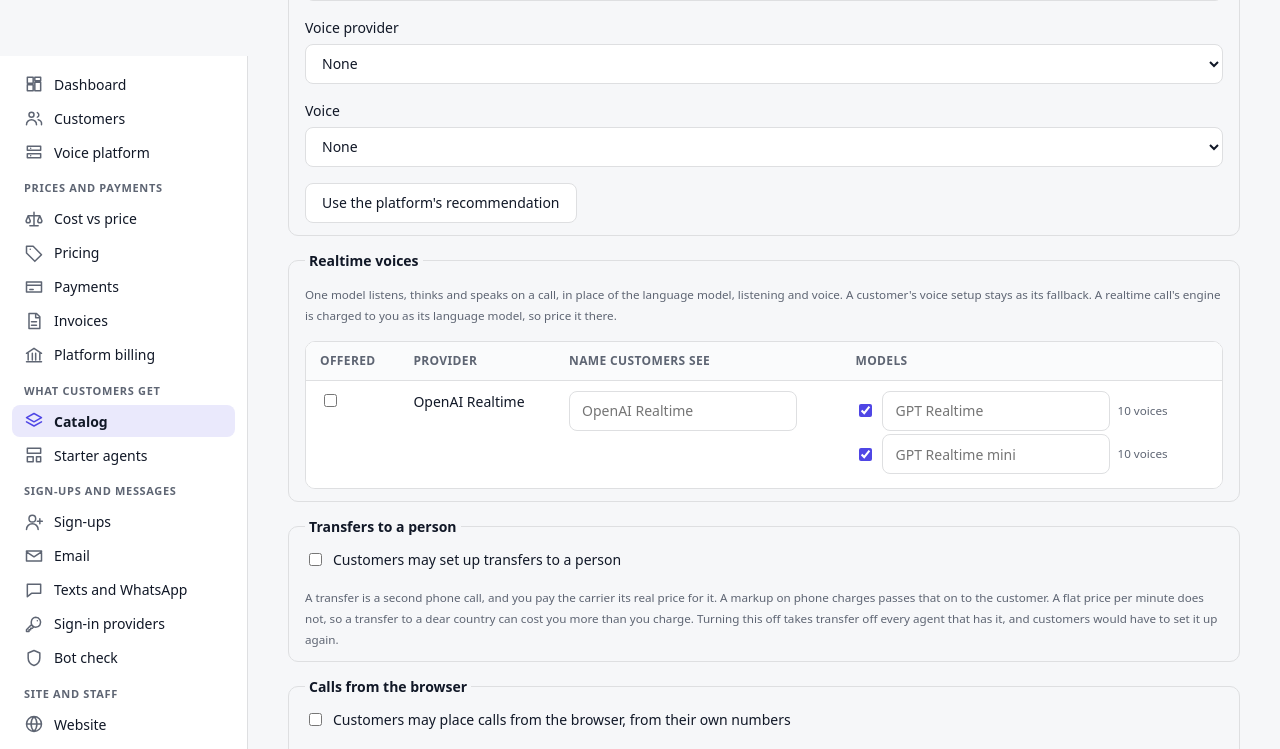
Test: admin → catalog → realtime voices › offers providers and models under names of the operator's own, flags one that names the platform, and saves them with the rest
Later steps or results of the test are not shown.
(page scrolled)
Expected: the text "10 voices" is shown 2 times, [1118, 402, 1168, 419]; [1118, 445, 1168, 463]
Click the checkbox named "Offer OpenAI Realtime": (330, 400) [324, 394, 337, 406]
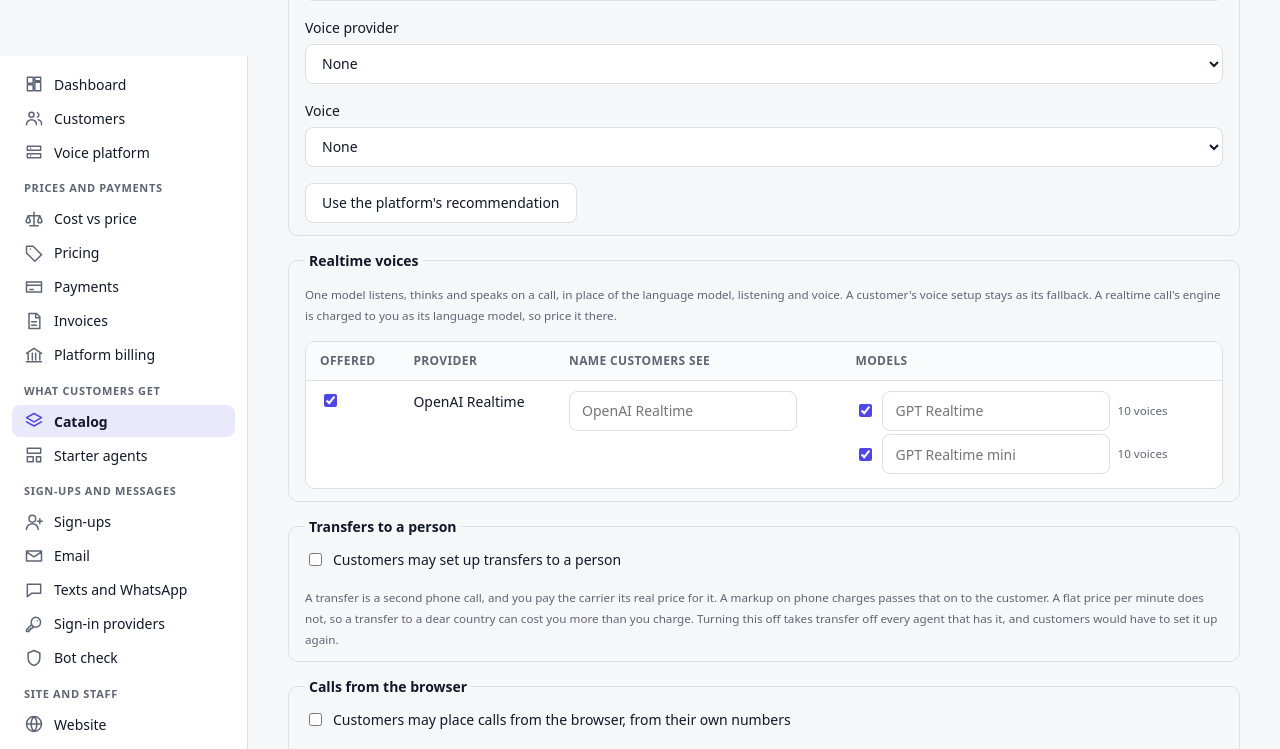
In the field named "Name customers see for OpenAI Realtime": (683, 410) [569, 390, 797, 430], type "Telenow Live"
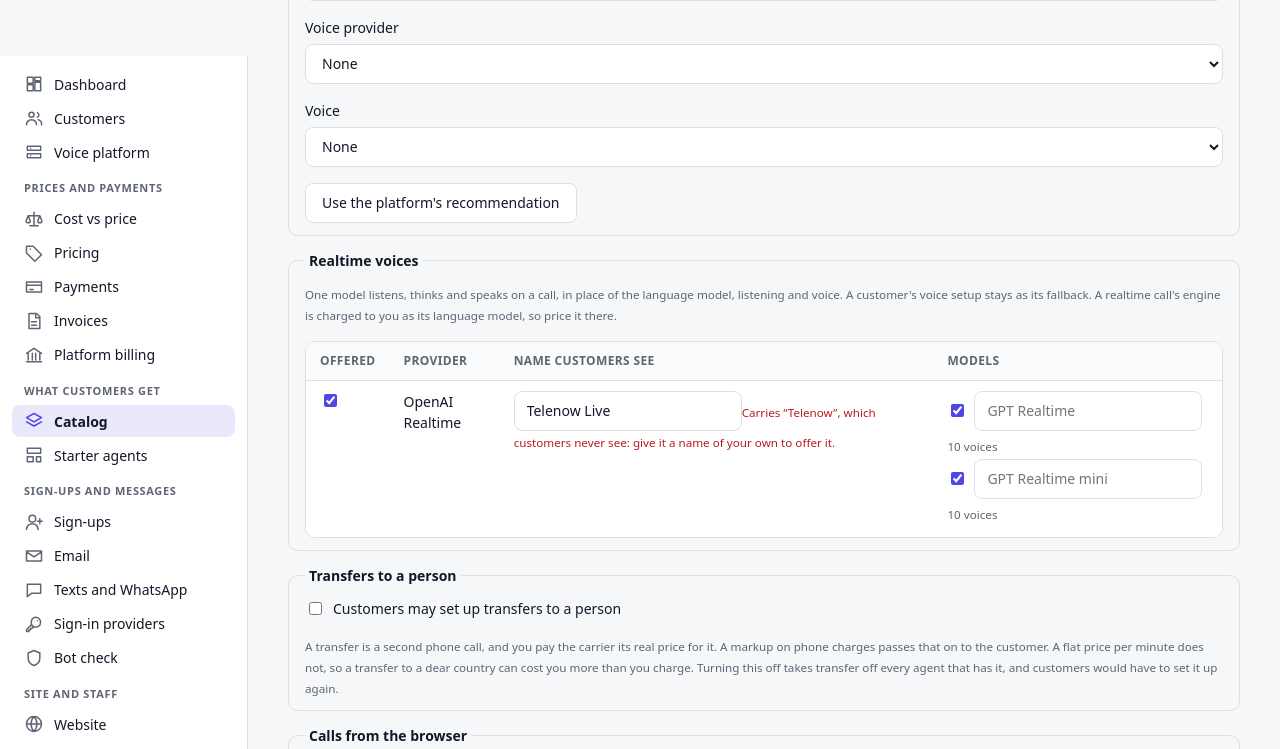
Expected: the text "Carries “Telenow”" is shown, [514, 404, 876, 450]
